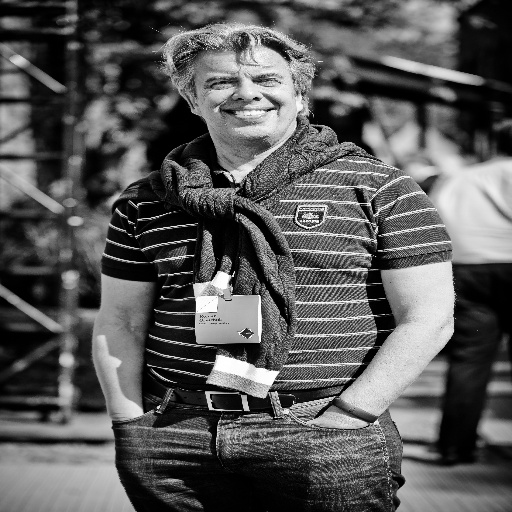hand: (305, 411, 361, 429)
